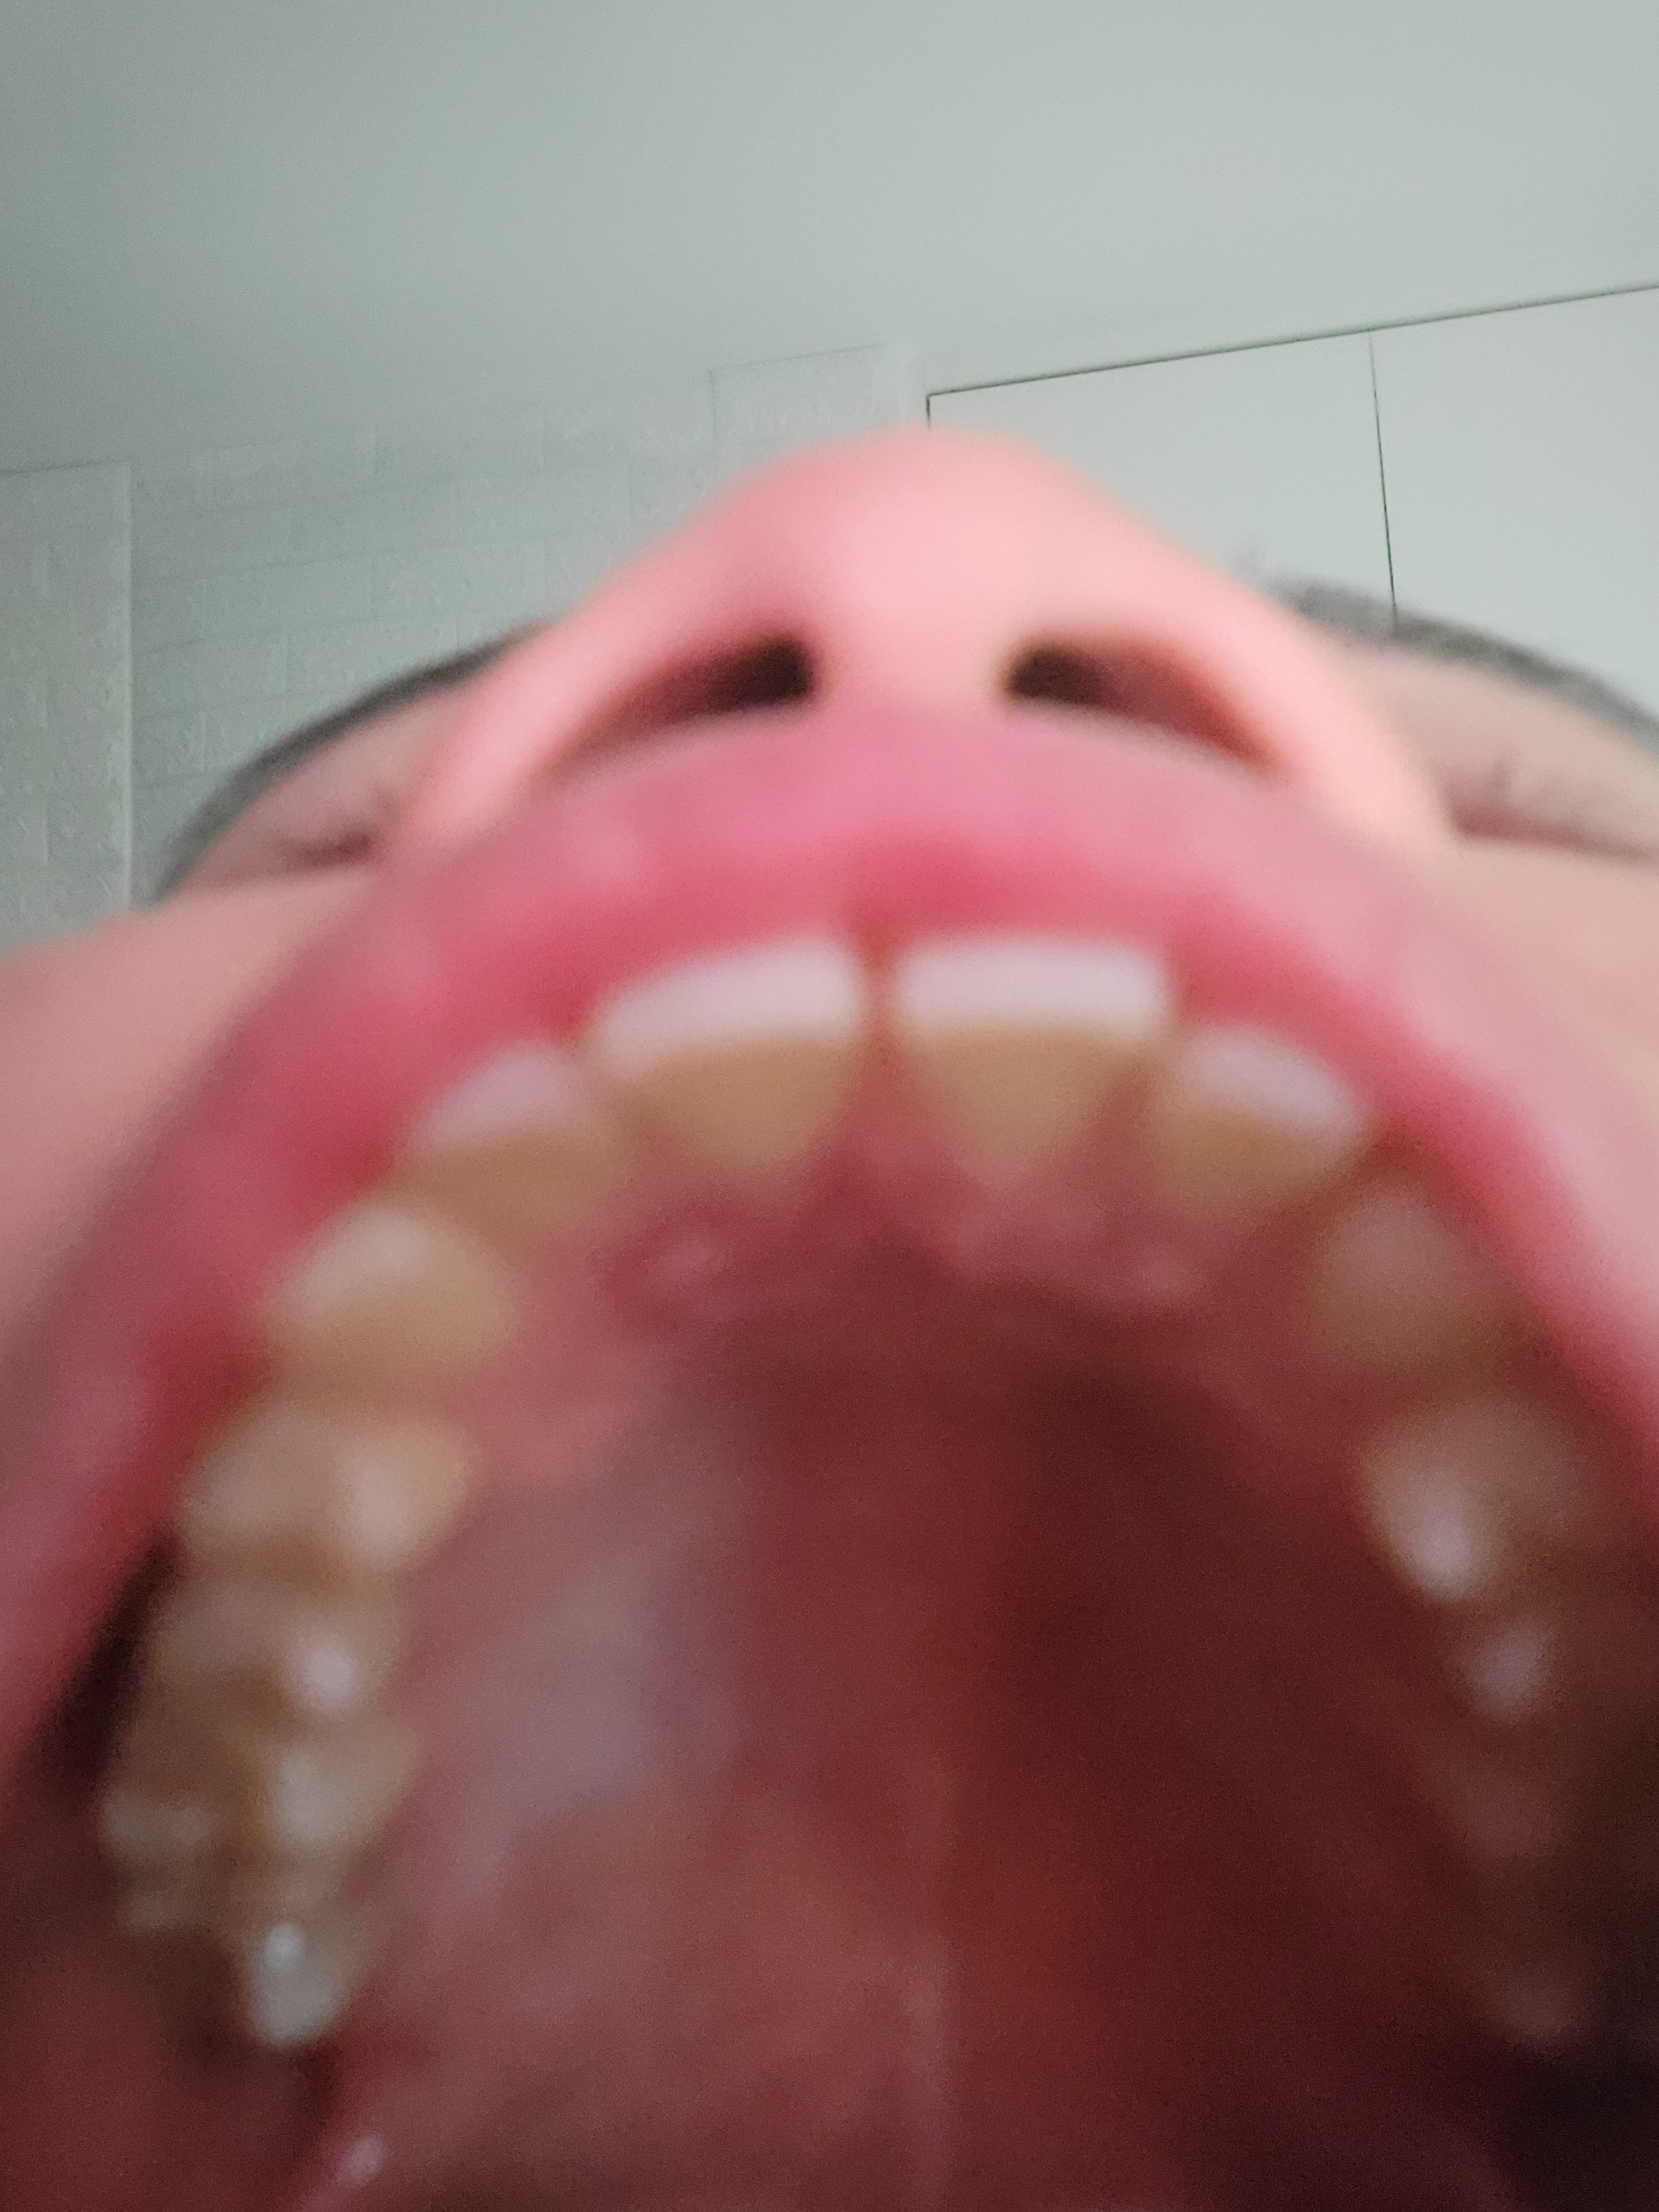teeth: (606, 916, 861, 1177), (878, 937, 1154, 1170), (113, 1696, 411, 1897), (1363, 1383, 1598, 1594), (275, 1195, 511, 1386), (218, 1397, 486, 1548), (423, 1033, 608, 1235), (1175, 1021, 1351, 1231), (157, 1571, 410, 1696), (1314, 1186, 1493, 1331)
